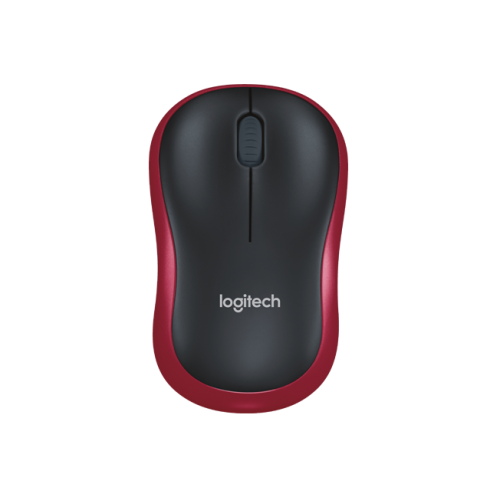logitech-mouse-m185: (146, 82, 350, 413)
